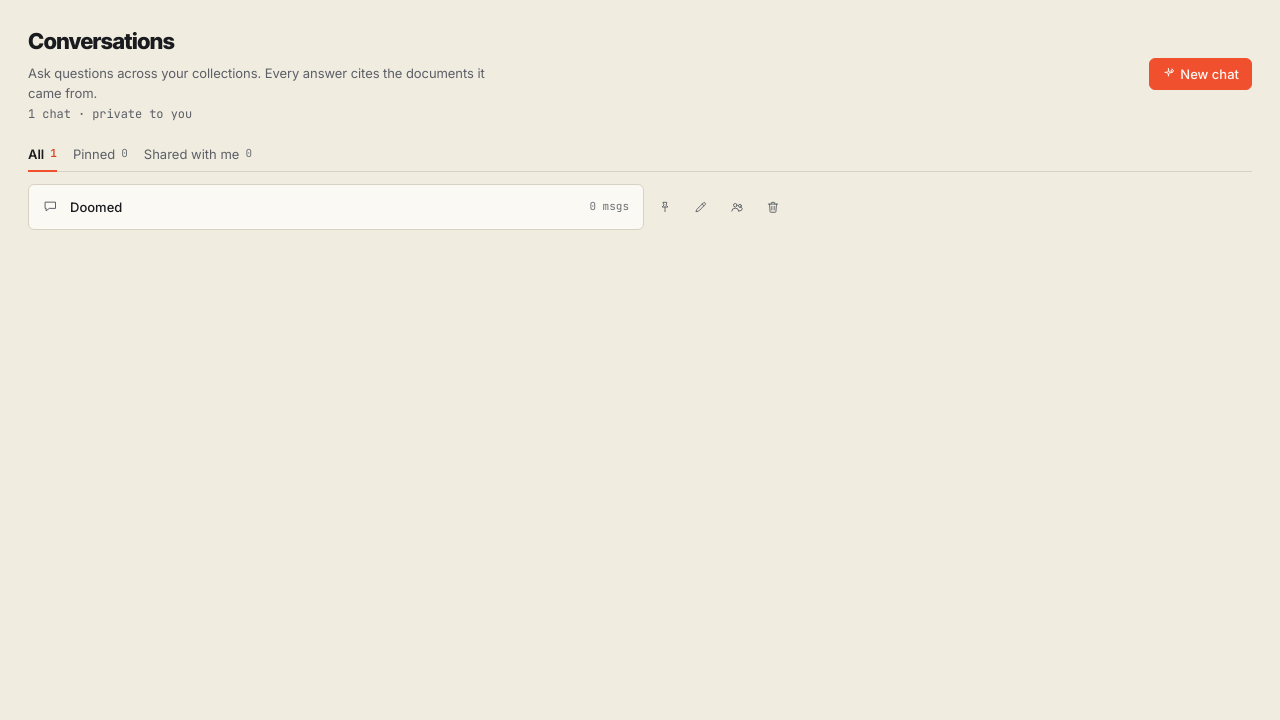
Test case: KbChatsPage › deletes a chat
Click the button named "Delete Doomed" at (773, 207), box [758,192,788,222]
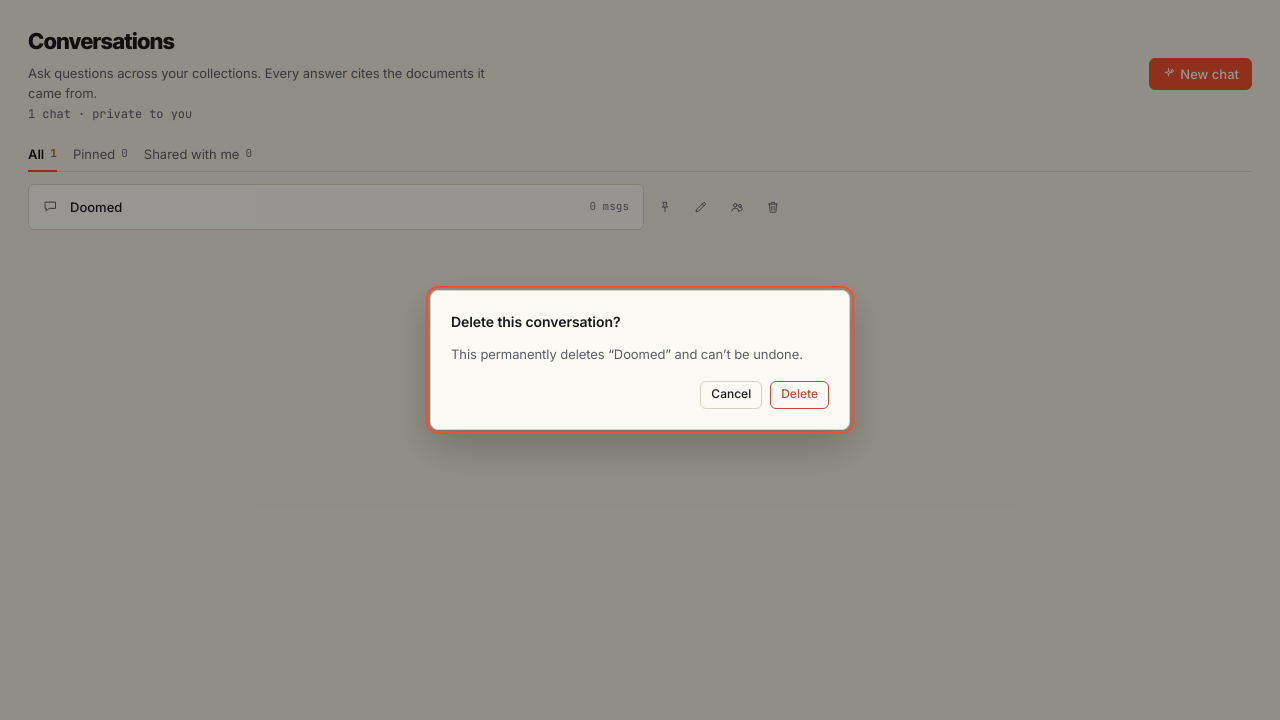
Click the button "Delete" at (800, 395), box [770,381,829,409]
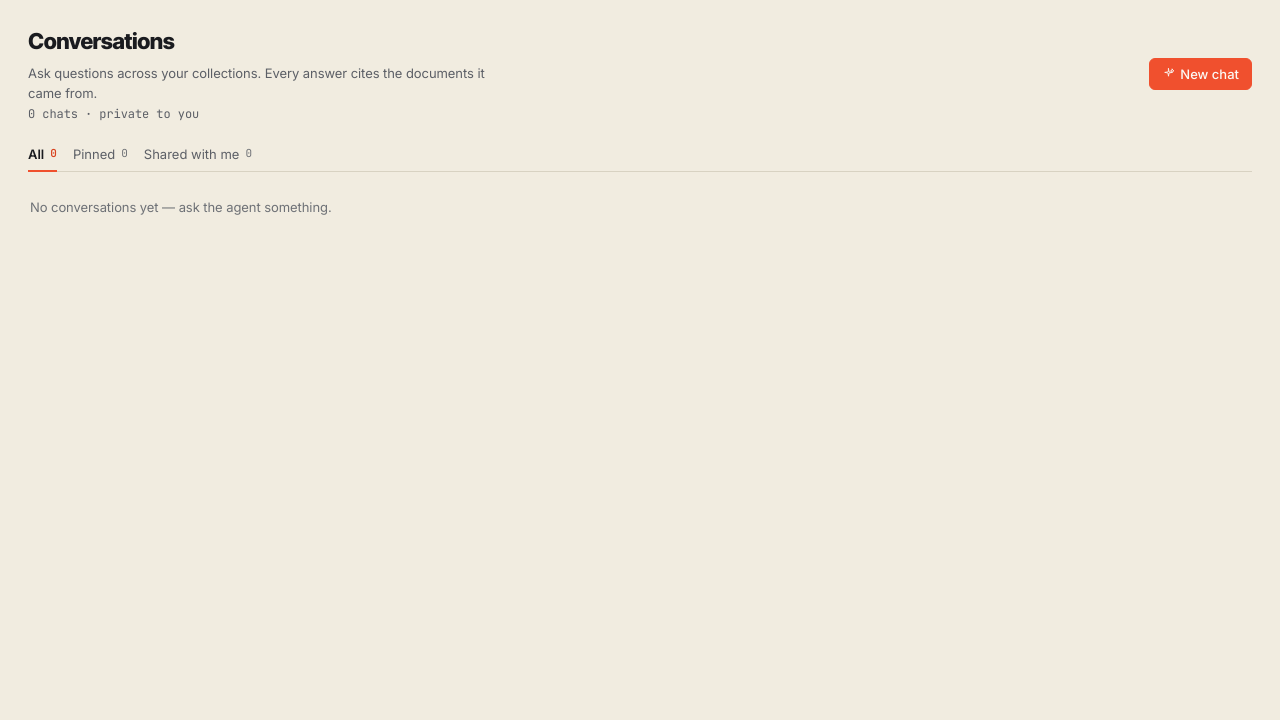
Expected: the button "Doomed" is gone
